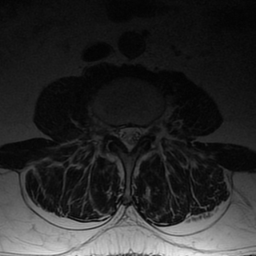CCS_normal: (125, 117, 133, 159)
LFS_normal: (143, 118, 151, 142)
LLS_normal: (134, 120, 142, 145)
RFS_normal: (107, 119, 116, 145)
RLS_normal: (115, 120, 125, 146)
